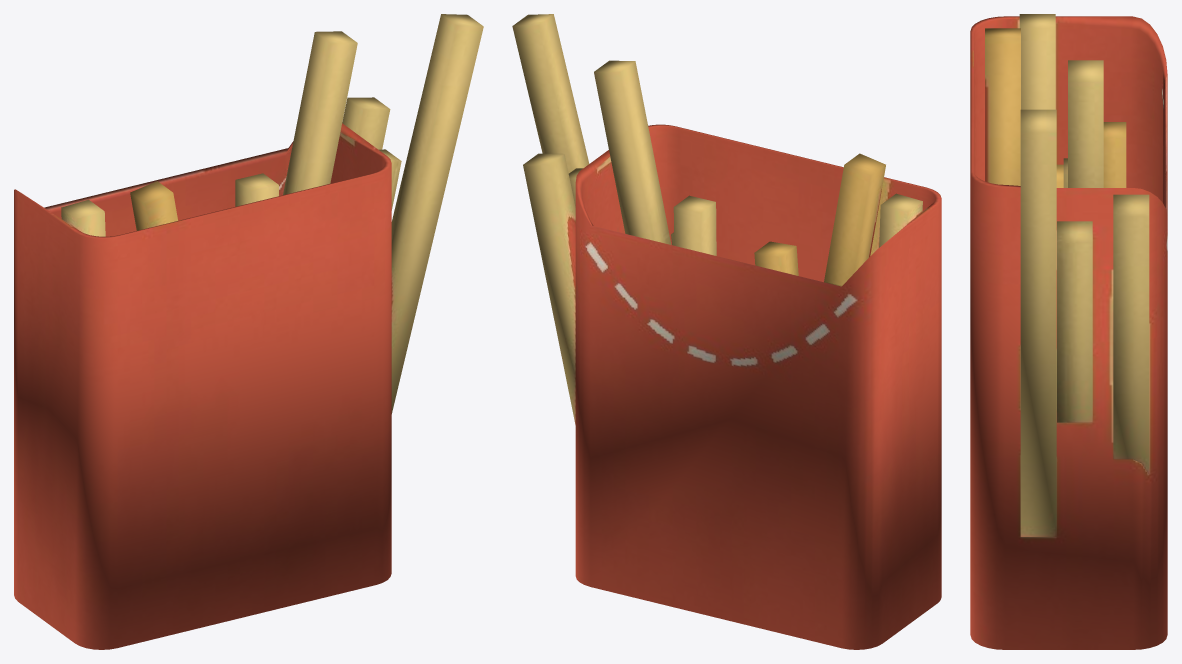
Rendered from fries_b2.glb.
The picture shows the model from 3 angles, left to right: view 1: azimuth 30°, elevation 25°; view 2: azimuth 150°, elevation 25°; view 3: azimuth 270°, elevation 25°; orthographic projection. The views are drawn at different scales.
Visible parts, largest first — view 1: prop_fries_b2_felt; view 2: prop_fries_b2_felt; view 3: prop_fries_b2_felt.
Part boxes in pixels (<box>): prop_fries_b2_felt: <box>14,14,483,649</box>; prop_fries_b2_felt: <box>512,14,941,649</box>; prop_fries_b2_felt: <box>970,14,1167,649</box>.
Bounding box in the file's own units: 0.1397 × 0.1663 × 0.051.
1 material, 1 textured.
